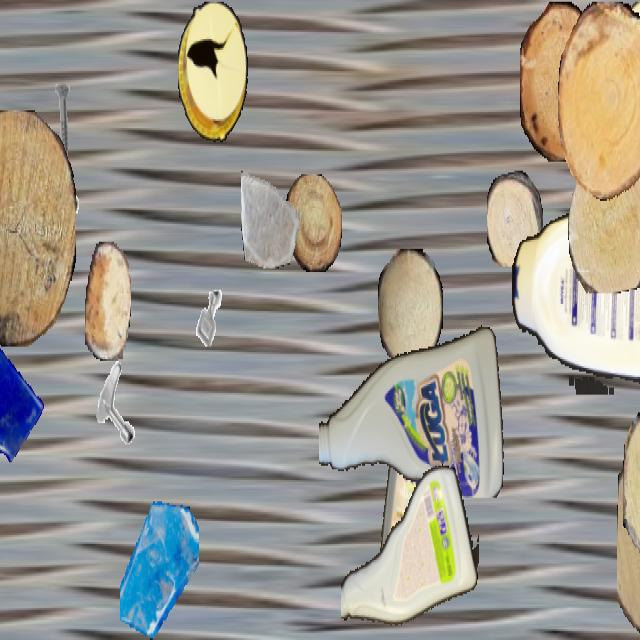glass: (120, 500, 198, 638), (241, 164, 299, 266), (0, 336, 44, 460)
metal: (27, 176, 89, 286), (90, 356, 144, 452), (39, 80, 87, 165), (188, 279, 232, 357)
plastic: (319, 313, 507, 498), (341, 457, 479, 638), (512, 210, 640, 394), (375, 386, 441, 602), (604, 1, 640, 282), (178, 2, 248, 140)
wood: (0, 110, 76, 345), (558, 2, 640, 201), (520, 2, 602, 162), (568, 150, 640, 292), (378, 249, 442, 363), (85, 242, 131, 359), (285, 174, 341, 270), (487, 170, 543, 266), (617, 439, 640, 638), (623, 409, 640, 558)
